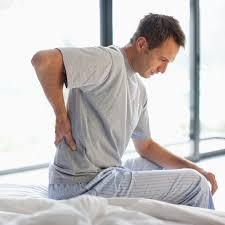Persons: (117, 11, 195, 90)
